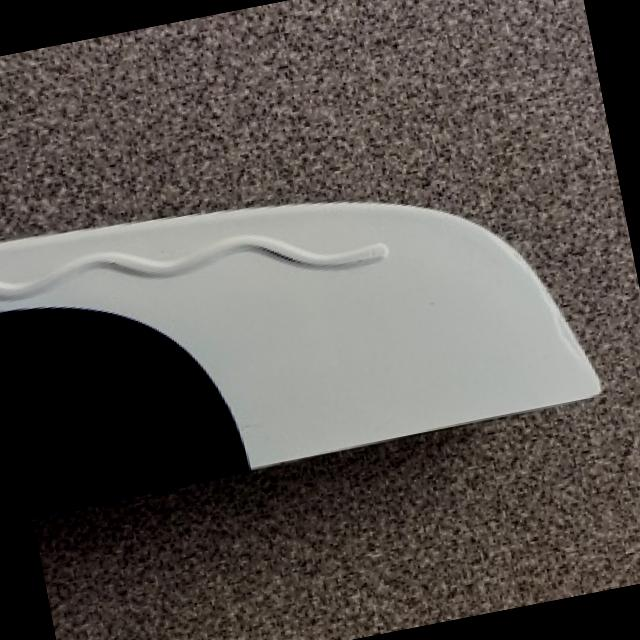healthy: (0, 202, 601, 510)
